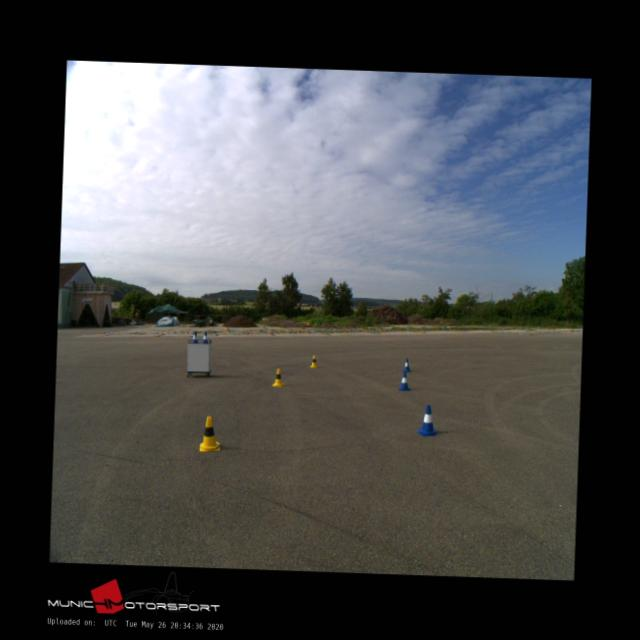blue_cone: (416, 404, 437, 435), (398, 372, 410, 390), (402, 358, 410, 372), (192, 330, 198, 342), (202, 331, 208, 343)
yellow_cone: (198, 415, 221, 451), (271, 368, 285, 386), (309, 354, 317, 366)
